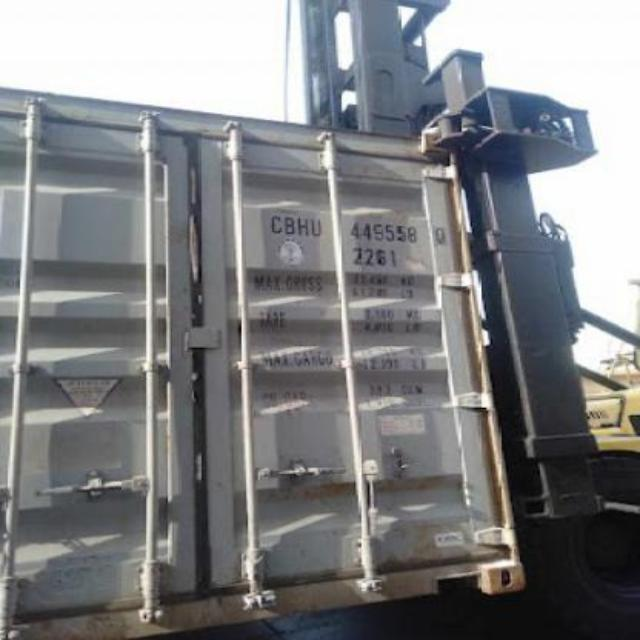0: (432, 224, 448, 246)
4: (348, 217, 362, 241), (360, 217, 372, 243)
5: (394, 218, 406, 246), (384, 217, 396, 243)
8: (406, 219, 418, 251)
9: (372, 217, 384, 243)
B: (284, 211, 296, 237)
C: (270, 211, 284, 235)
H: (296, 212, 310, 238)
U: (310, 214, 324, 242)
